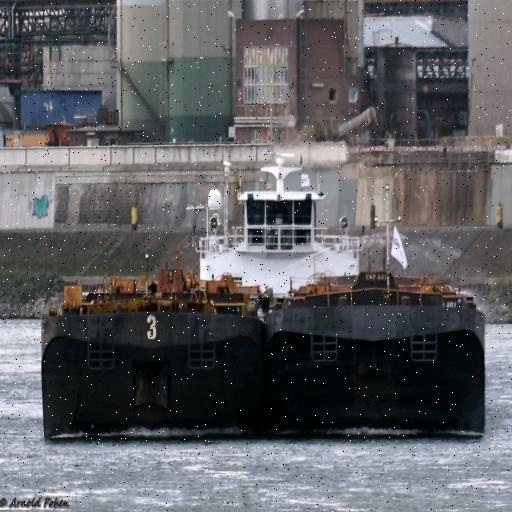tugboat: (186, 148, 372, 374)
